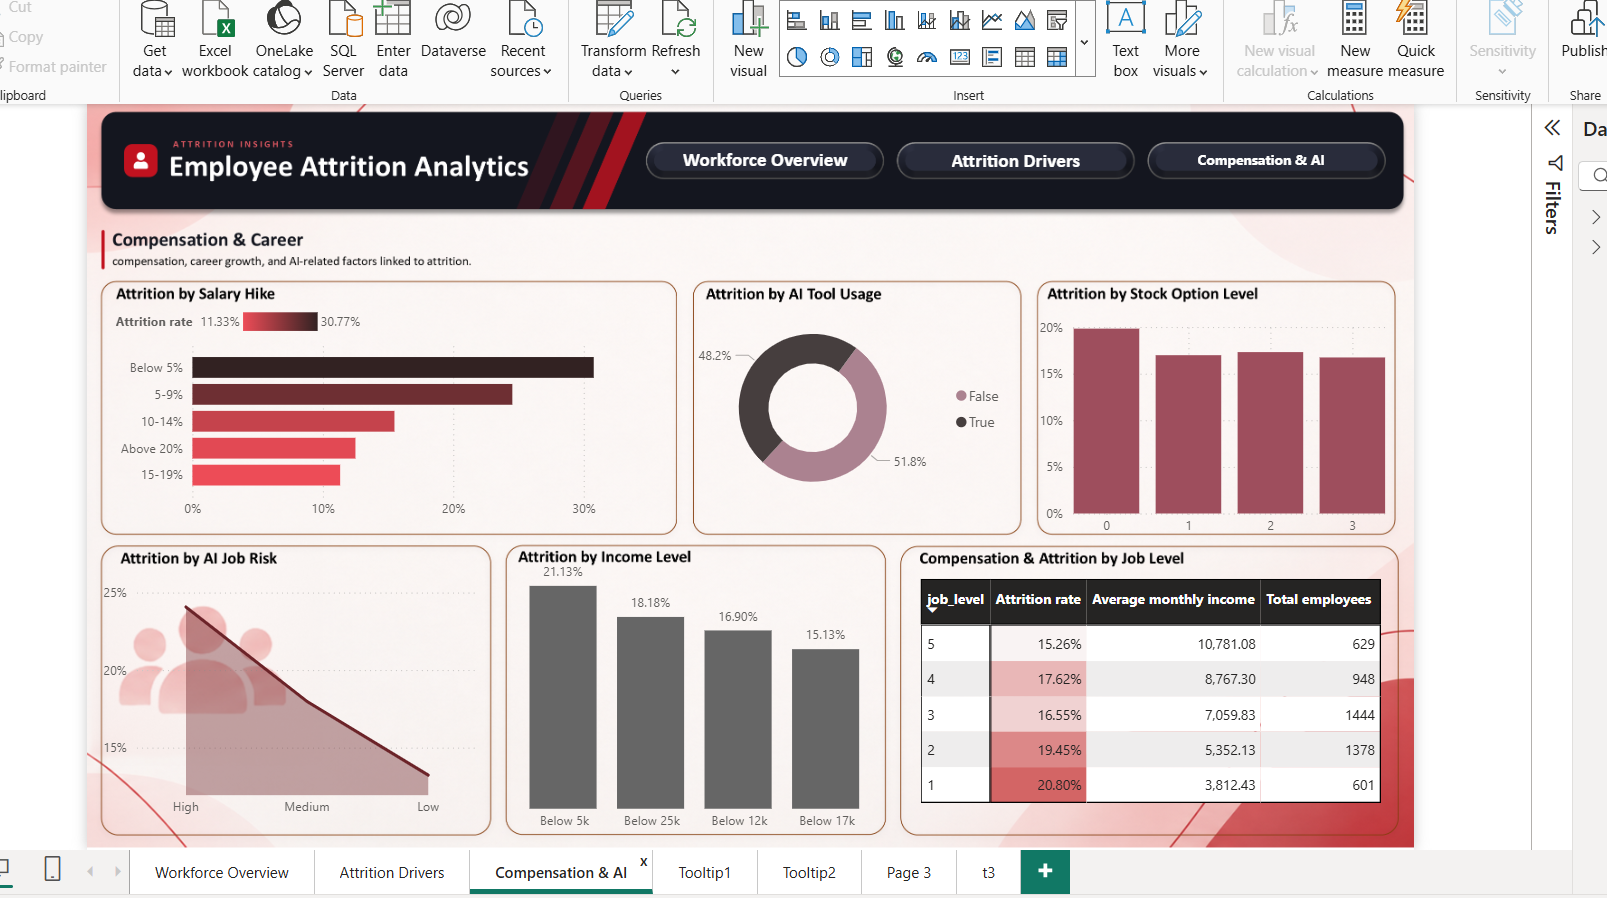

This screenshot's page, from the dashboard's own definition file:
{"tool":"powerbi","page":{"name":"Compensation & AI","canvas":[1280,720],"ordinal":2},"visuals":[{"type":"lineChart","fields":{"Category":["employee_attrition_hr_2026.Ai riskgroup"],"Y":["measures (2).Attrition rate"]},"box":[11.3,442.3,370.4,253.5],"z":0},{"type":"donutChart","fields":{"Category":["employee_attrition_hr_2026.uses_ai_tools_at_work"],"Y":["measures (2).Attrition rate"]},"box":[559.2,190.1,335.2,205.6],"z":1000},{"type":"clusteredColumnChart","fields":{"Y":["measures (2).Attrition rate"],"Category":["employee_attrition_hr_2026.Income group"]},"box":[388.7,425.4,398.6,284.5],"z":2000},{"type":"clusteredColumnChart","fields":{"Y":["measures (2).Attrition rate"],"Category":["employee_attrition_hr_2026.stock_option_level"]},"box":[914.1,201.4,343.7,223.9],"z":3000},{"type":"pivotTable","fields":{"Rows":["employee_attrition_hr_2026.job_level"],"Values":["measures (2).Attrition rate","measures (2).Average monthly income","measures (2).Total employees"]},"box":[800,453.5,480.3,228.2],"z":4000},{"type":"clusteredBarChart","fields":{"Category":["employee_attrition_hr_2026.Salary Hike Group"],"Y":["measures (2).Attrition rate"]},"box":[22.5,193,536.6,215.5],"z":5000},{"type":"pageNavigator","box":[555.7,34.3,197.1,40],"z":6000},{"type":"pageNavigator","box":[788.6,40,215.7,28.6],"z":7000},{"type":"pageNavigator","box":[1024.3,40,218.6,28.6],"z":8000}]}

Visuals, with their boxes on the page's 1280x720 design canvas (x1, y1, x2, y2). These are canvas units, not pixel positions in the 1607x898 screenshot, which may show the page scaled, cropped or inside an application window:
lineChart - employee_attrition_hr_2026.Ai riskgroup x measures (2).Attrition rate: rect(11, 442, 382, 696)
donutChart - employee_attrition_hr_2026.uses_ai_tools_at_work x measures (2).Attrition rate: rect(559, 190, 894, 396)
clusteredColumnChart - measures (2).Attrition rate x employee_attrition_hr_2026.Income group: rect(389, 425, 787, 710)
clusteredColumnChart - measures (2).Attrition rate x employee_attrition_hr_2026.stock_option_level: rect(914, 201, 1258, 425)
pivotTable - employee_attrition_hr_2026.job_level x measures (2).Attrition rate: rect(800, 454, 1280, 682)
clusteredBarChart - employee_attrition_hr_2026.Salary Hike Group x measures (2).Attrition rate: rect(22, 193, 559, 408)
pageNavigator: rect(556, 34, 753, 74)
pageNavigator: rect(789, 40, 1004, 69)
pageNavigator: rect(1024, 40, 1243, 69)
